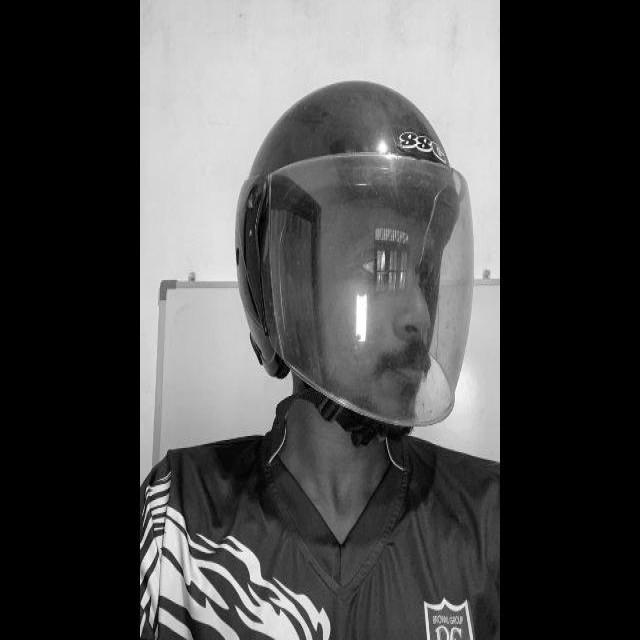5_casco: (235, 79, 475, 428)
